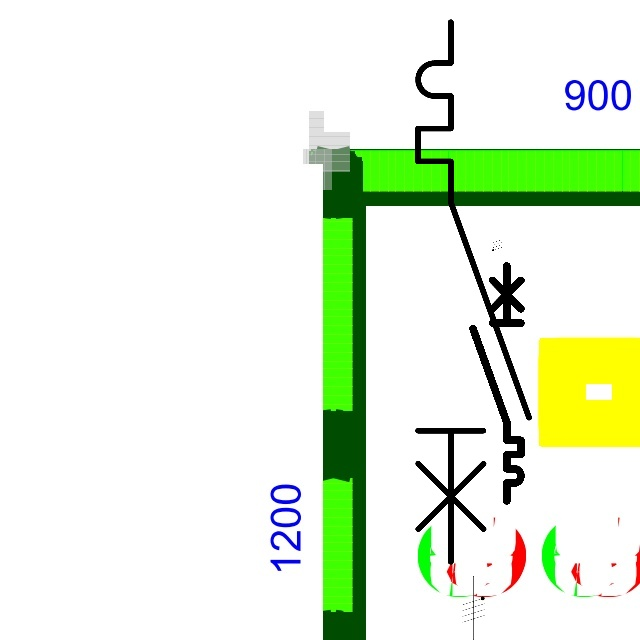interruptor_termomagnetico: (404, 8, 543, 575), (467, 260, 527, 507)
